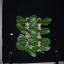leaf: (16, 22, 28, 30), (27, 48, 37, 57), (16, 43, 27, 51), (41, 18, 52, 26), (29, 20, 39, 27), (16, 16, 27, 22), (28, 37, 39, 43), (28, 28, 39, 34), (28, 15, 38, 21), (40, 44, 50, 50), (40, 38, 50, 44), (27, 30, 37, 36), (40, 28, 50, 34), (18, 28, 28, 33), (28, 44, 38, 49), (20, 34, 27, 40), (38, 47, 44, 54), (17, 36, 27, 40), (16, 40, 27, 43), (37, 19, 40, 23), (27, 19, 30, 22)
